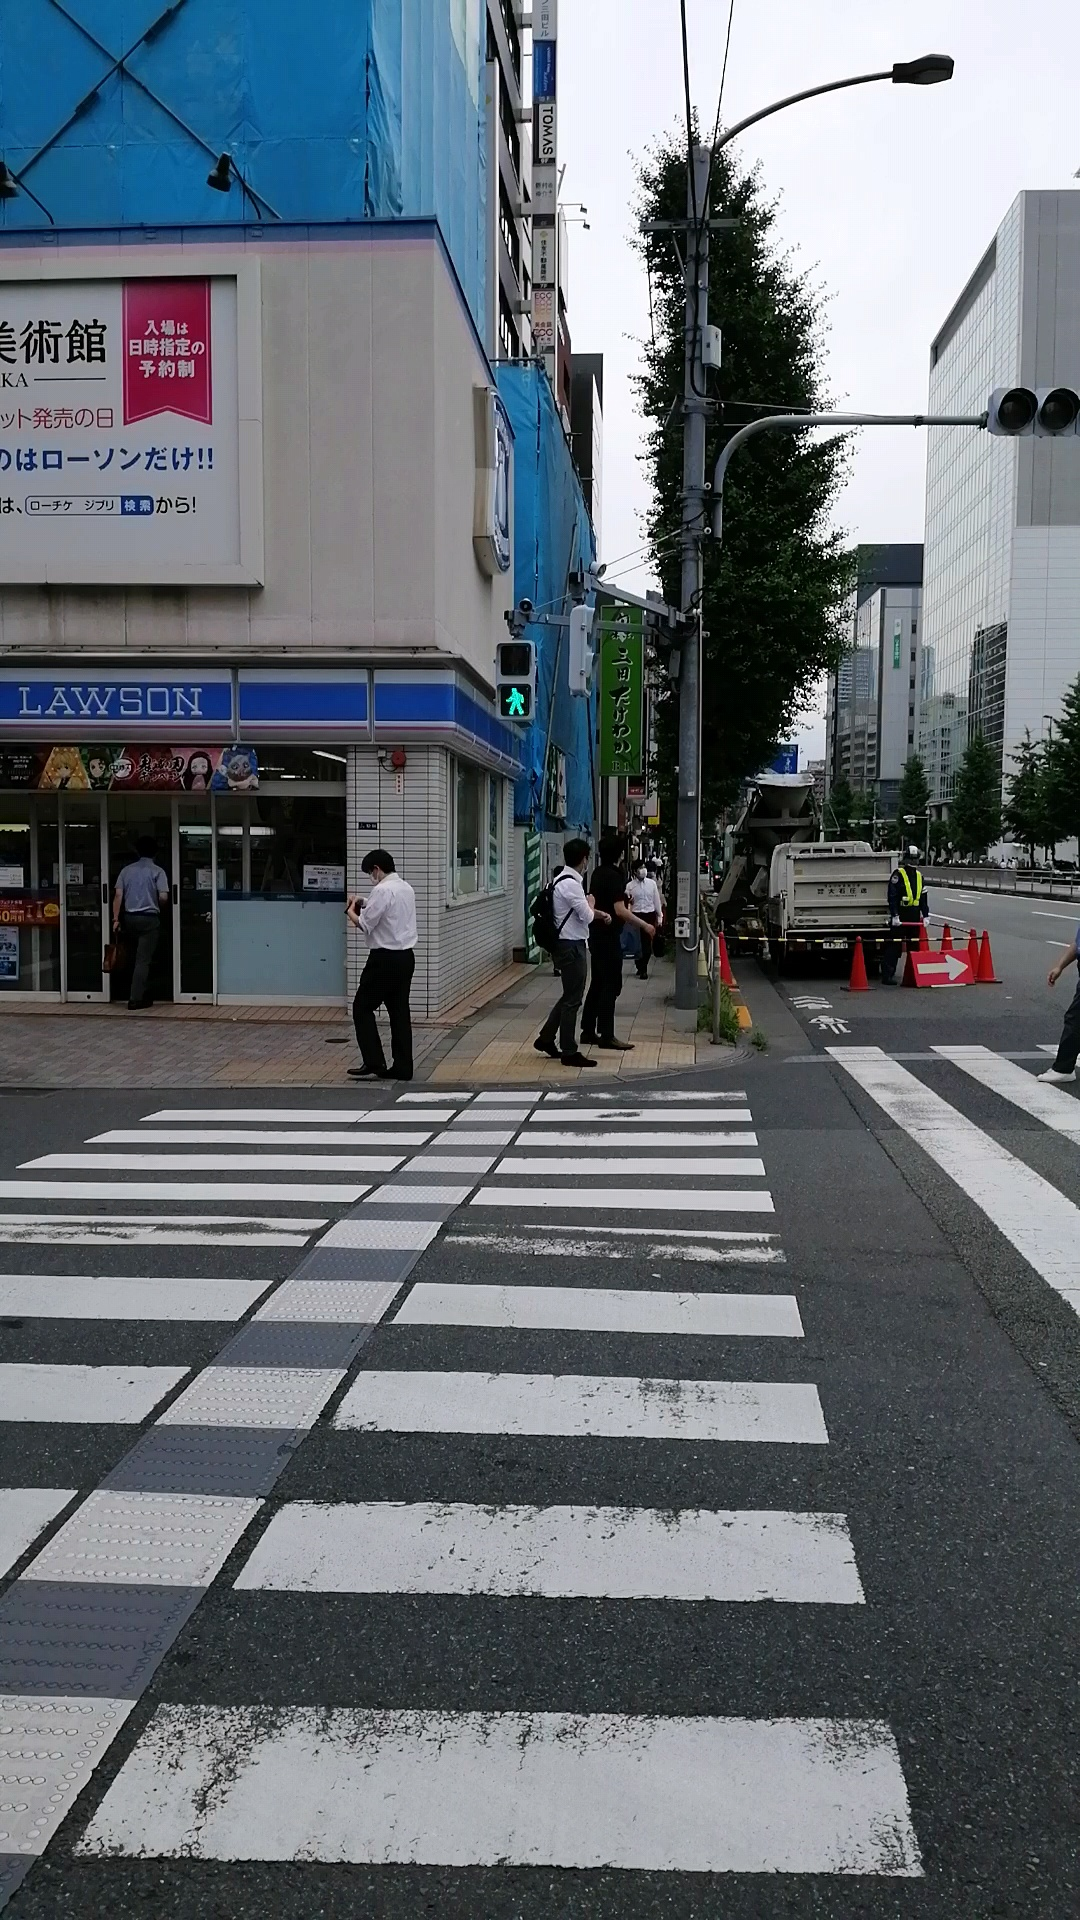green: (493, 640, 539, 721)
